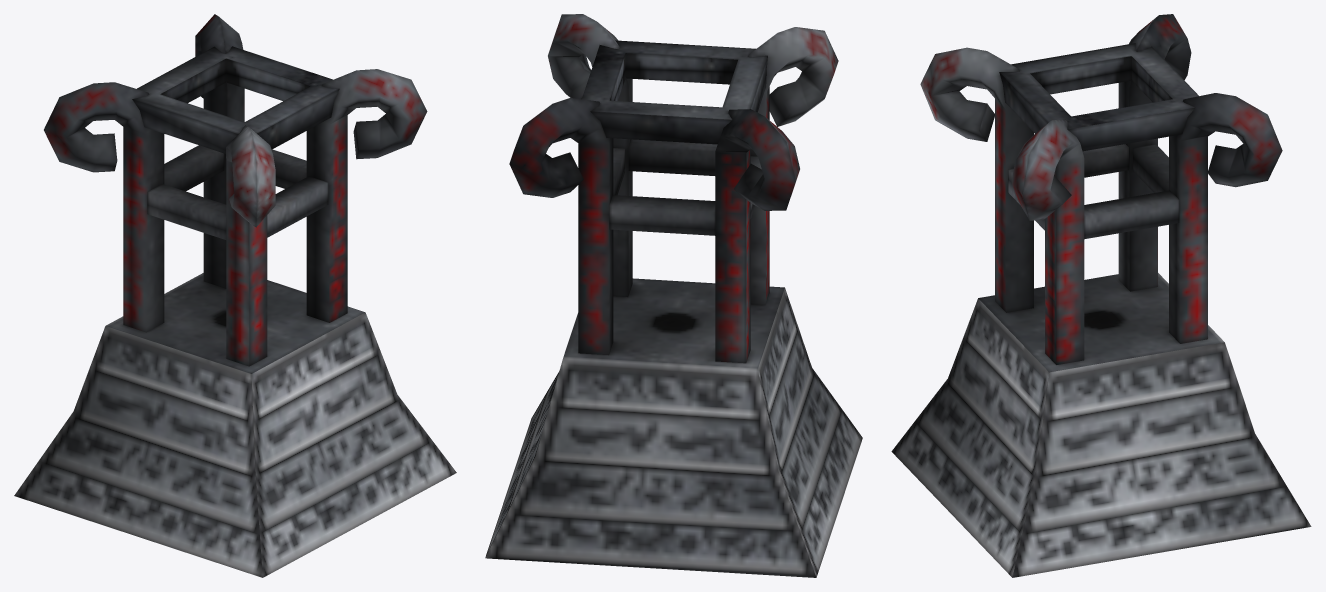
The model's file is mace stand.fbx.
3 views of the same model, side by side, from view 1: azimuth 30°, elevation 25°; view 2: azimuth 150°, elevation 25°; view 3: azimuth 270°, elevation 25° (orthographic). The views are drawn at different scales.
Visible parts, largest first — view 1: Mace_stand; view 2: Mace_stand; view 3: Mace_stand.
Part boxes in pixels (x1,y1,x2,y2): Mace_stand: (14,14,456,577); Mace_stand: (485,14,862,577); Mace_stand: (891,14,1311,577).
Bounding box in the file's own units: 0.766 × 0.8396 × 0.766.
